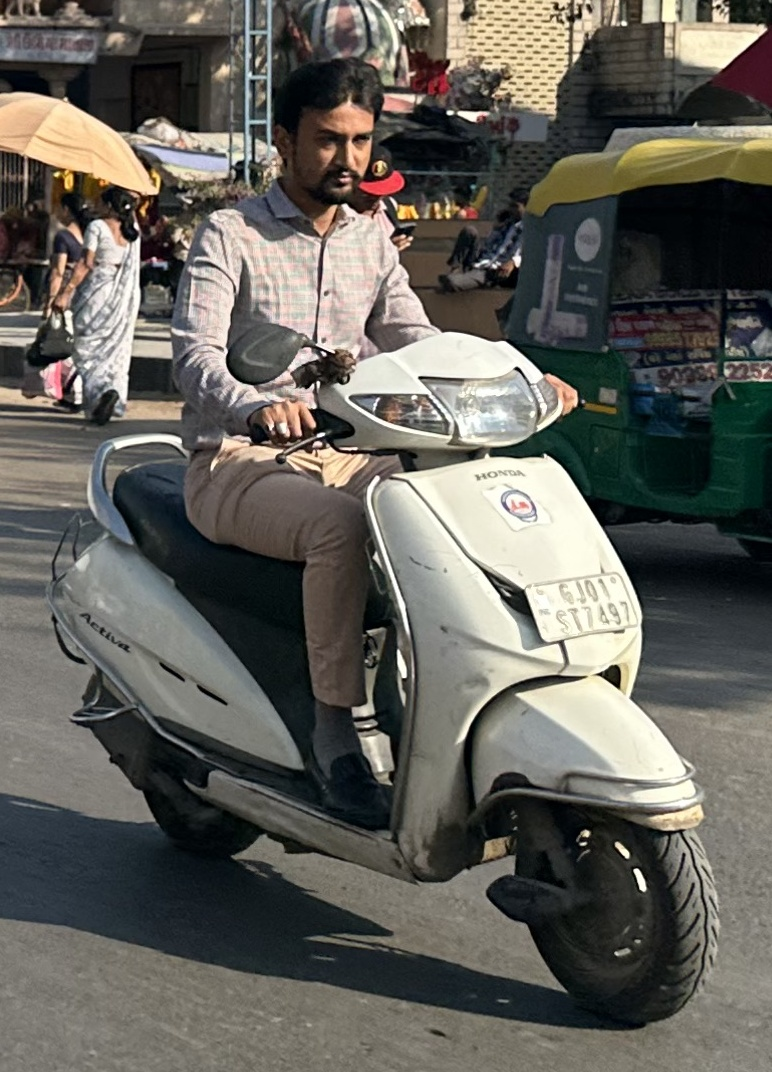BikeWithRider: (36, 47, 733, 1040)
NoHelmet: (257, 51, 397, 213)
